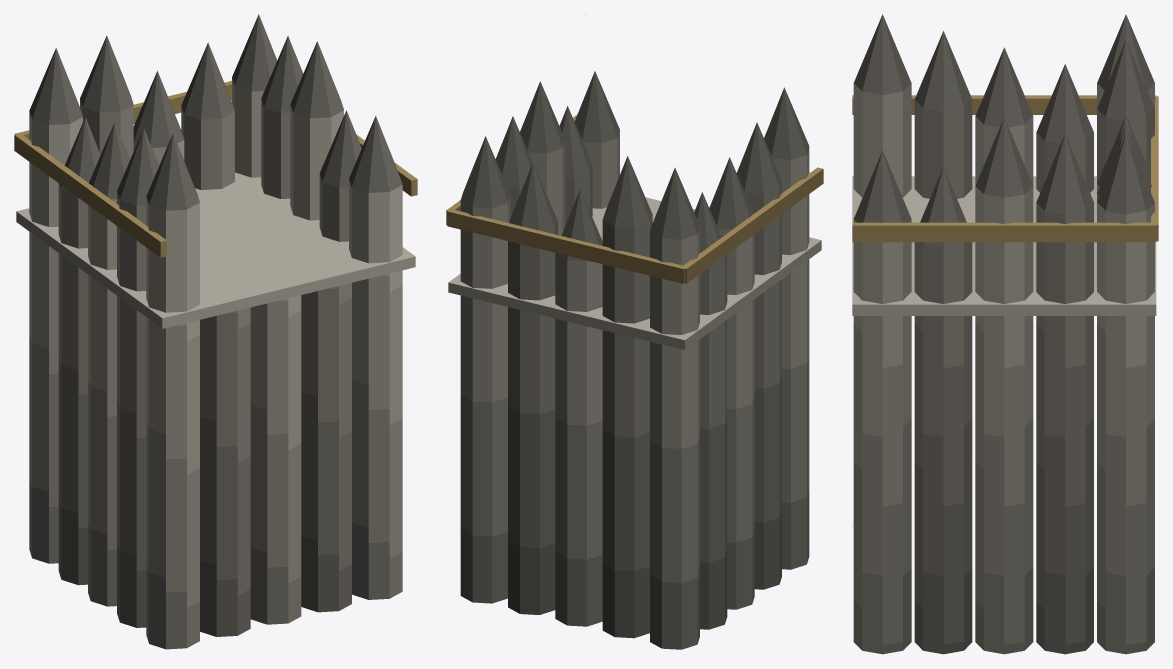
The model's file is perimeter_wall_stone_f4.glb.
3 views of the same model, side by side, from view 1: azimuth 30°, elevation 25°; view 2: azimuth 150°, elevation 25°; view 3: azimuth 270°, elevation 25° (orthographic). The views are drawn at different scales.
Size of the model in its own units: 2.03 by 3.9 by 2.01.
1 material, 1 textured.
